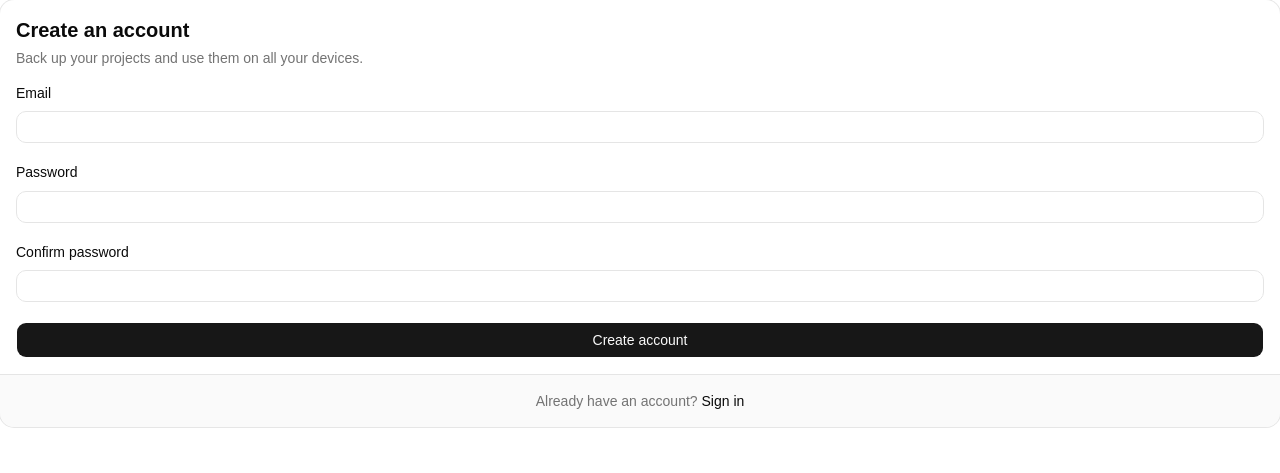
Test: SignupPage › requires matching passwords
The image size is (1280, 473).
Type "me@example.com" into the field labelled "Email".
click(640, 127); type("me@example.com")  # box [16,111,1264,143]
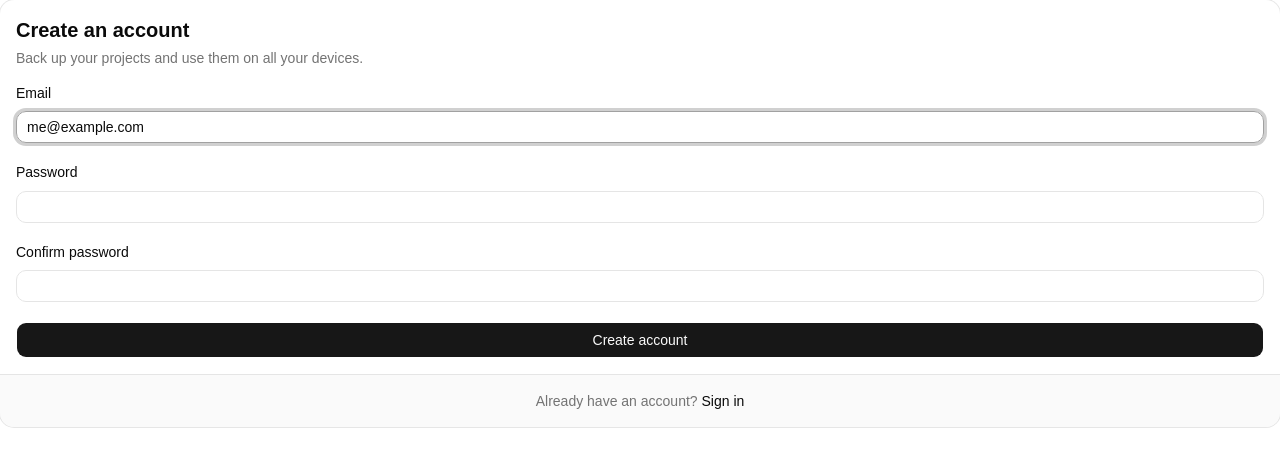
Type "password-1" into the password field labelled "Password".
click(640, 206); type("password-1")  # box [16,190,1264,222]
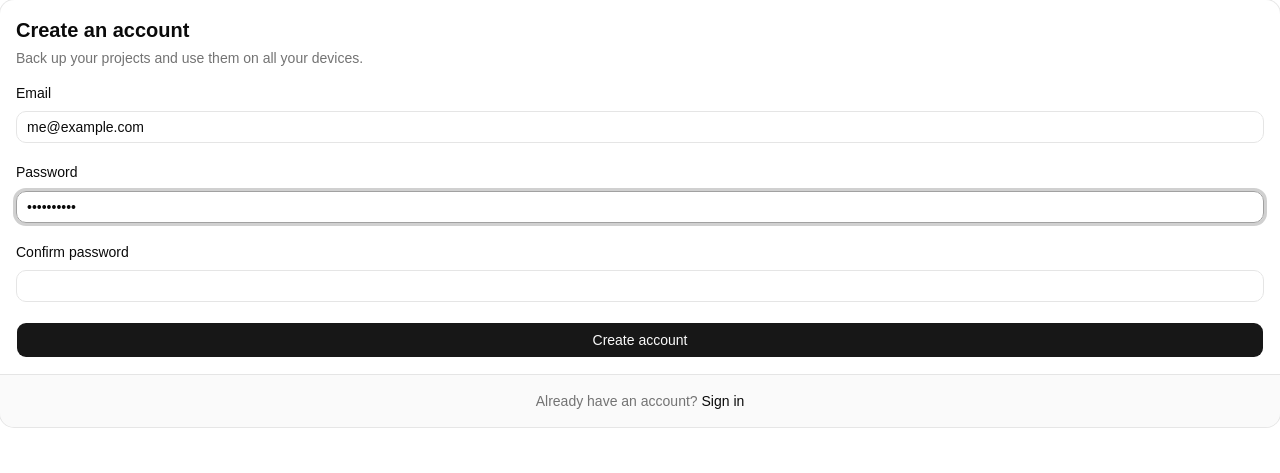
Type "password-2" into the password field labelled "Confirm password".
click(640, 286); type("password-2")  # box [16,270,1264,302]
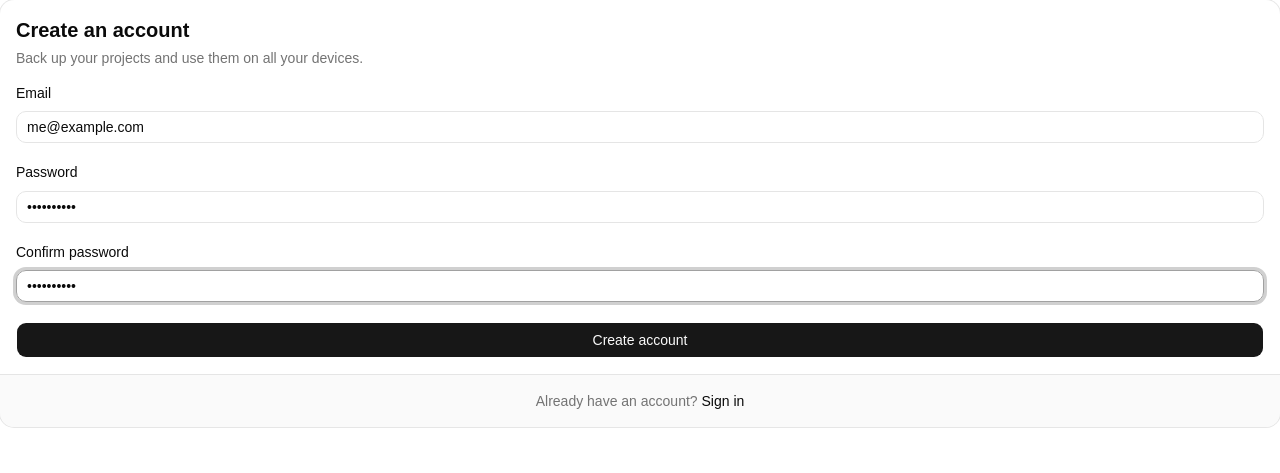
Click the button "Create account".
click(640, 340)  # box [16,322,1264,358]
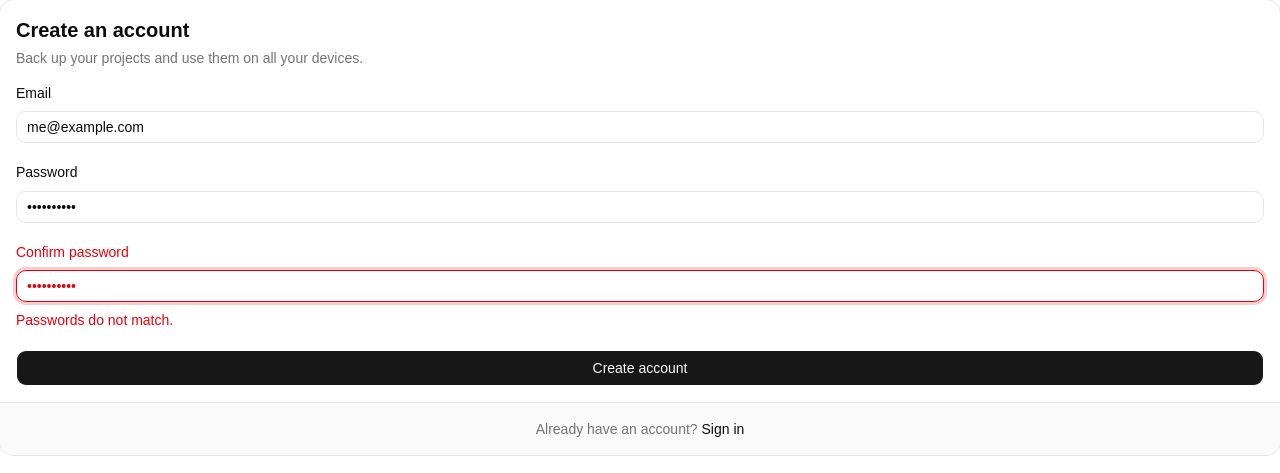
Expected: the text "Passwords do not match." is shown, [16,312,173,328]
